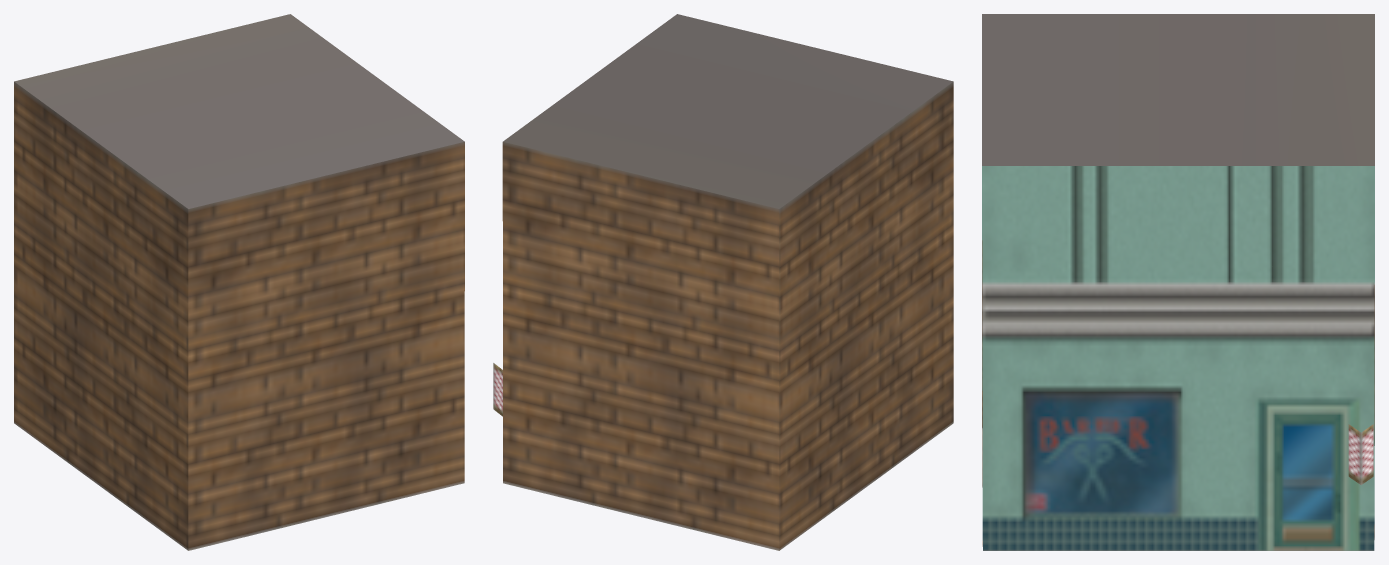
3 renders of one model, left to right at view 1: azimuth 30°, elevation 25°; view 2: azimuth 150°, elevation 25°; view 3: azimuth 270°, elevation 25°, orthographic. The views are drawn at different scales.
Visible parts, largest first — view 1: Object07; view 2: Object07; view 3: Object07.
Boxes of the visible parts, bbox=[...] form: Object07: bbox=[14, 14, 464, 550]; Object07: bbox=[493, 14, 953, 550]; Object07: bbox=[982, 14, 1374, 550].
Bounding box in the file's own units: 865 × 875 × 810.
Materials: 2 (2 with a texture image).
